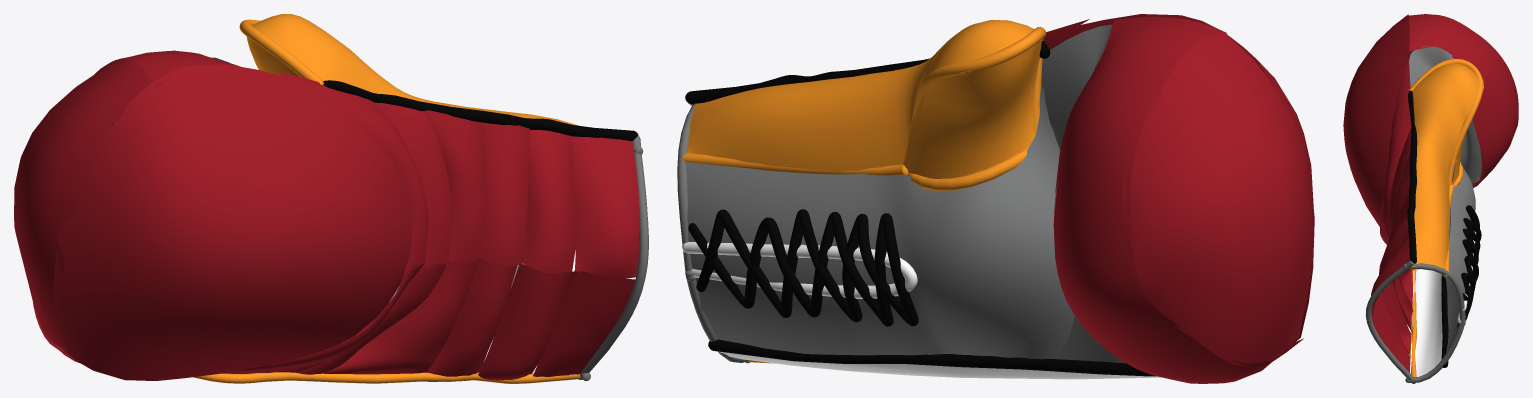
The model's file is boxing_gloves.obj.
The picture shows the model from 3 angles, left to right: view 1: azimuth 30°, elevation 25°; view 2: azimuth 150°, elevation 25°; view 3: azimuth 270°, elevation 25°; orthographic projection. The views are drawn at different scales.
Visible parts, largest first — view 1: n.0090, n.0088, n.0085, n.0084, n.0067, n.0071, n.0082, n.0073, n.0081, n.0153, n.0070, n.0079 (+9 smaller); view 2: n.0156, n.0088, n.0113, n.0153, s.0160, n.0154, n.0157, s.0158, n.0122, s.0120, n.0090, s.0159 (+5 smaller); view 3: n.0153, n.0090, n.0113, n.0122, n.0156, n.0157, n.0079, s.0160, n.0073, s.0159, s.0149, s.0048 (+14 smaller).
Part boxes in pixels (x1=…): n.0090: x1=53, y1=64, x2=411, y2=380; n.0088: x1=14, y1=57, x2=152, y2=347; n.0085: x1=572, y1=136, x2=639, y2=278; n.0084: x1=523, y1=130, x2=576, y2=273; n.0067: x1=323, y1=258, x2=479, y2=374; n.0071: x1=478, y1=264, x2=576, y2=380; n.0082: x1=479, y1=123, x2=529, y2=266; n.0073: x1=533, y1=270, x2=635, y2=376; n.0081: x1=420, y1=110, x2=486, y2=262; n.0153: x1=252, y1=14, x2=579, y2=125; n.0070: x1=427, y1=258, x2=517, y2=381; n.0079: x1=274, y1=69, x2=428, y2=273; n.0156: x1=685, y1=85, x2=1074, y2=359; n.0088: x1=1123, y1=32, x2=1314, y2=366; n.0113: x1=1053, y1=16, x2=1303, y2=383; n.0153: x1=687, y1=20, x2=1034, y2=172; s.0160: x1=688, y1=209, x2=918, y2=326; n.0154: x1=905, y1=41, x2=1041, y2=178; n.0157: x1=1041, y1=24, x2=1125, y2=363; s.0158: x1=708, y1=339, x2=1156, y2=376; n.0122: x1=719, y1=351, x2=1161, y2=379; s.0120: x1=682, y1=242, x2=917, y2=298; n.0090: x1=1043, y1=14, x2=1314, y2=343; s.0159: x1=685, y1=41, x2=1050, y2=103; n.0153: x1=1412, y1=63, x2=1483, y2=268; n.0090: x1=1343, y1=14, x2=1413, y2=226; n.0113: x1=1405, y1=14, x2=1518, y2=187; n.0122: x1=1410, y1=269, x2=1442, y2=376; n.0156: x1=1441, y1=166, x2=1475, y2=352; n.0157: x1=1409, y1=46, x2=1481, y2=183; n.0079: x1=1380, y1=61, x2=1411, y2=224; s.0160: x1=1457, y1=205, x2=1481, y2=327; n.0073: x1=1371, y1=292, x2=1410, y2=372; s.0159: x1=1407, y1=91, x2=1417, y2=263; s.0149: x1=1409, y1=58, x2=1483, y2=185; s.0048: x1=1365, y1=260, x2=1415, y2=383.
Bounding box in the file's own units: 0.298 × 0.2007 × 0.129.
